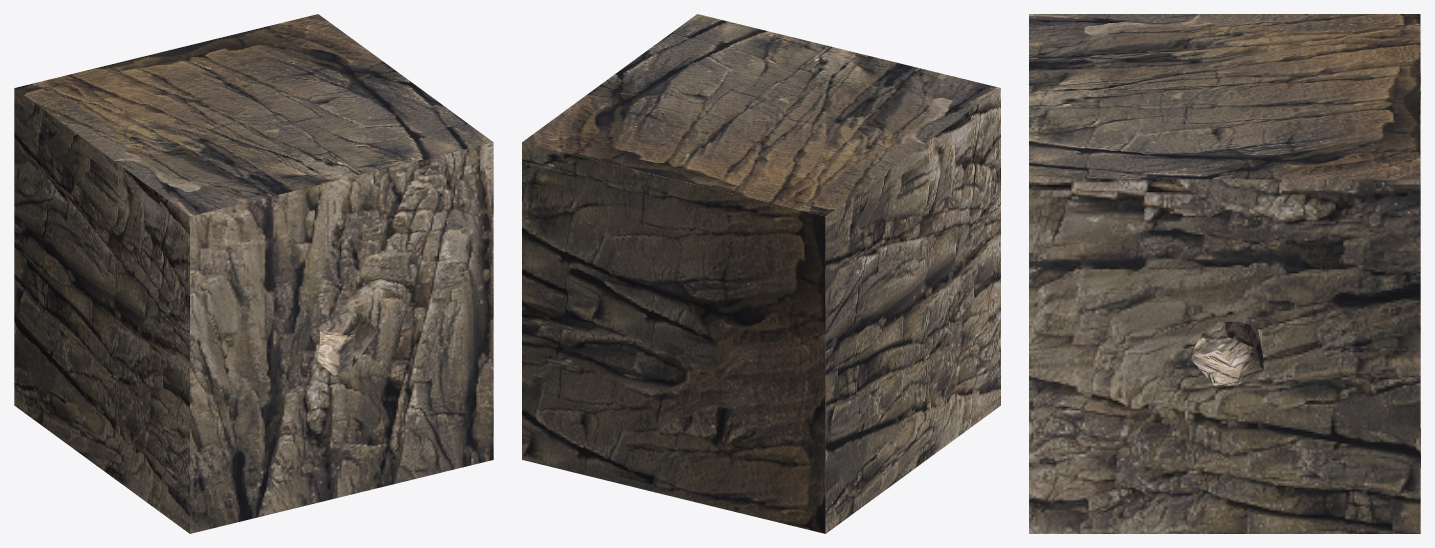
Rendered from tunnel_block_2_1.obj.
The picture shows the model from 3 angles, left to right: view 1: azimuth 30°, elevation 25°; view 2: azimuth 150°, elevation 25°; view 3: azimuth 270°, elevation 25°; orthographic projection. The views are drawn at different scales.
Parts seen in each view (by area): view 1: Box005.001; view 2: Box005.001; view 3: Box005.001.
Part boxes in pixels (<box>): Box005.001: <box>14,14,493,533</box>; Box005.001: <box>522,14,1000,533</box>; Box005.001: <box>1029,14,1420,533</box>.
Bounding box in the file's own units: 100 × 100 × 100.
